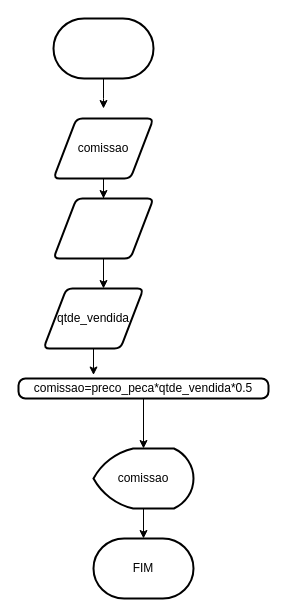
This 286x616 diagram has some shape labels left out. The centre of each missing label's shape, as x and y in pixels:
"INICIO" belongs at (x=103, y=48).
"preco_peca" belongs at (x=103, y=228).
